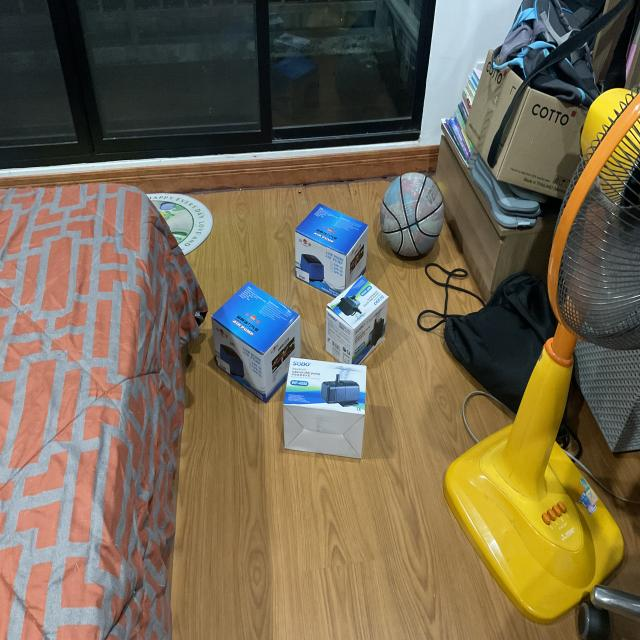SOBO_WP_4200: (281, 351, 388, 466), (316, 278, 417, 390)
YAMANO_LPP_20: (210, 275, 303, 404), (289, 192, 376, 300)
